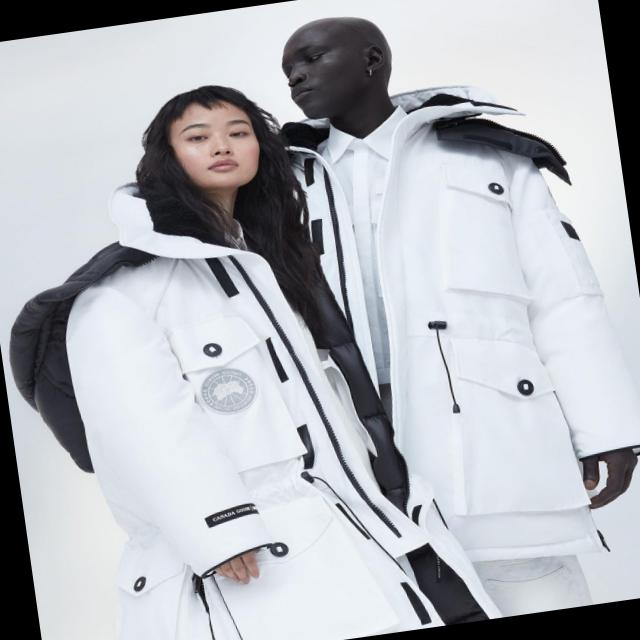Jacket: (17, 174, 488, 640), (279, 74, 640, 534)
